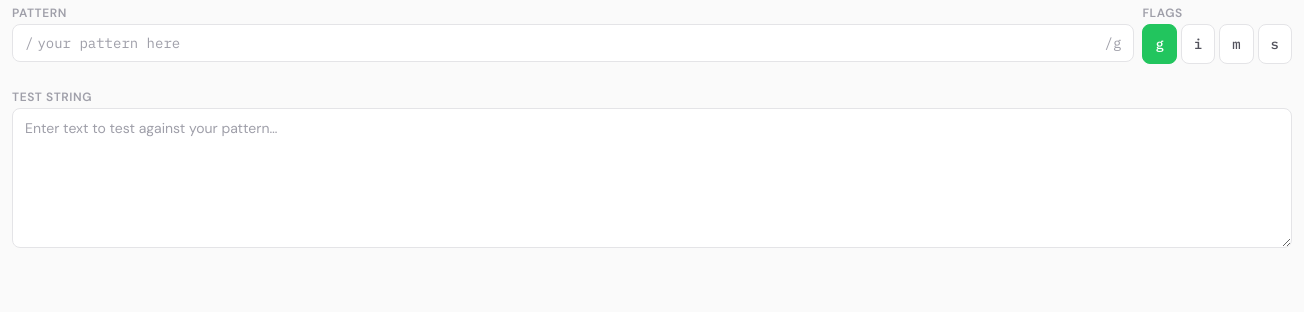
RegexTesterTool › shows "0 matches" badge when there is no match
In the field with placeholder "your pattern here": (569, 43) 37,25 -> 1101,61, type "apple"
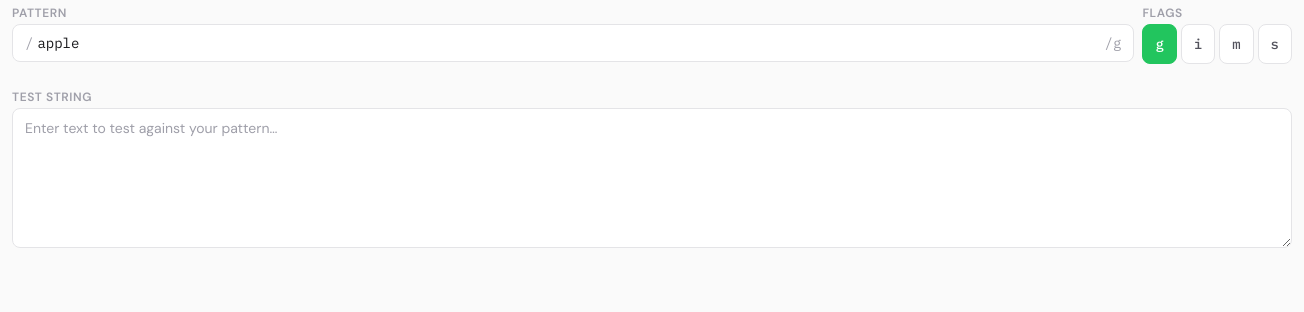
In the text box with placeholder "Enter text to test against your pattern…": (652, 178) 12,108 -> 1292,248, type "banana"
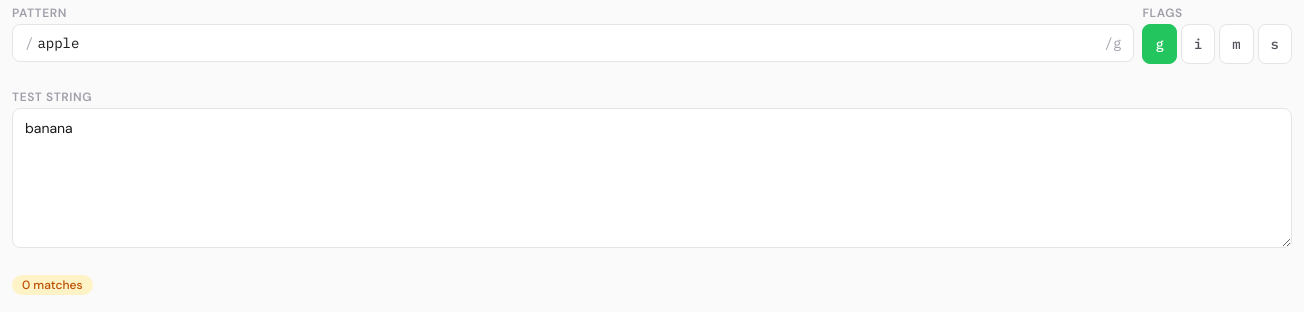
Now the text "0 matches" is shown, box 12,275 -> 93,295
